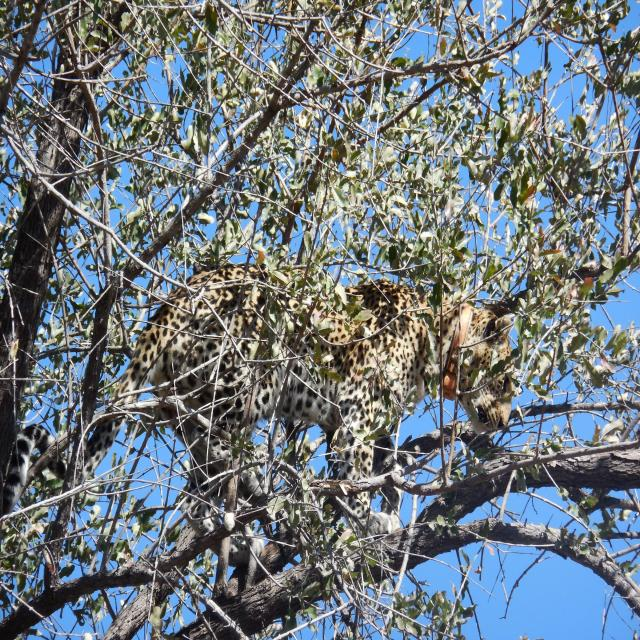Leopard: (33, 166, 536, 471)
